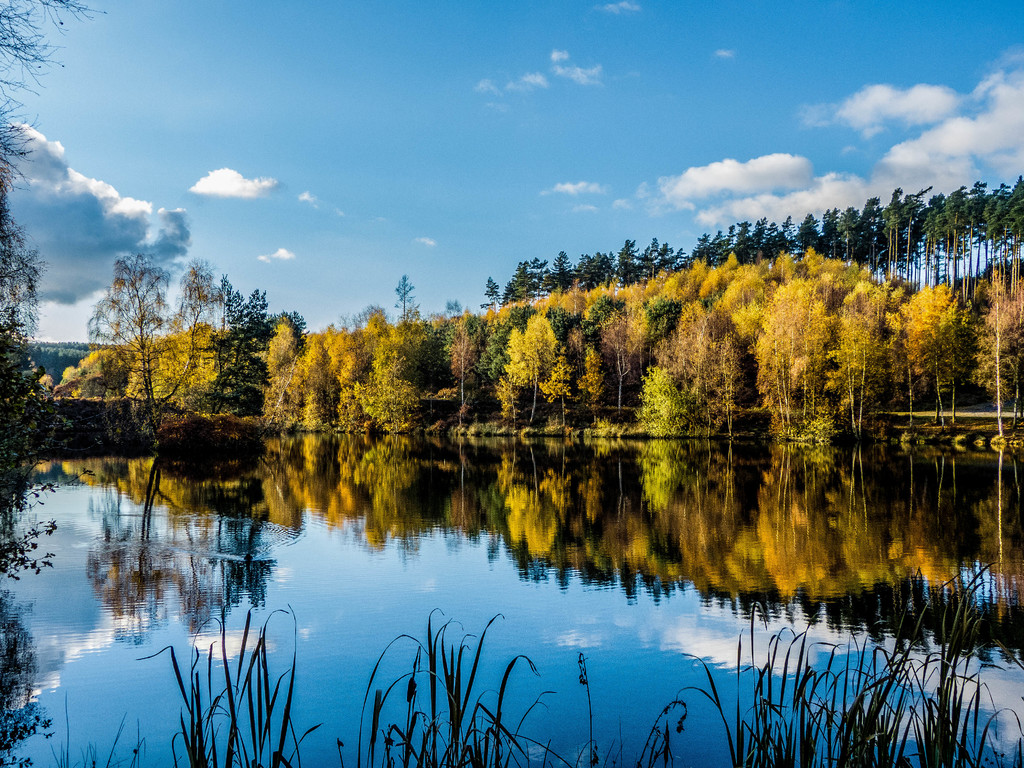Tree: (57, 173, 1023, 436)
